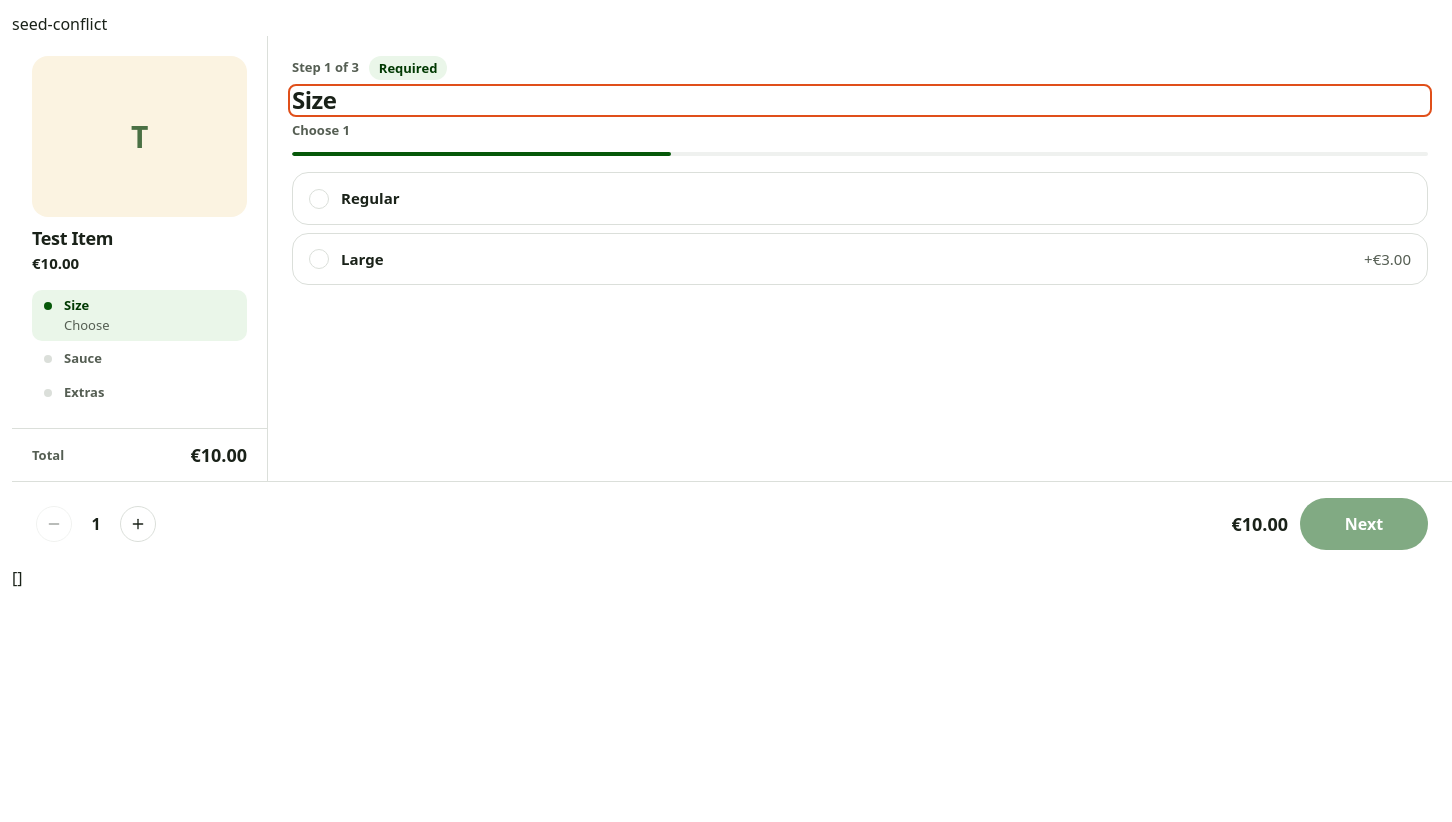
summary jump-back › edits an earlier step then returns to the furthest step
The width and height of the screenshot is (1452, 822).
Click the radio button labelled "Regular".
click(370, 198)  # box [292,172,1428,225]
Wait 400 ms
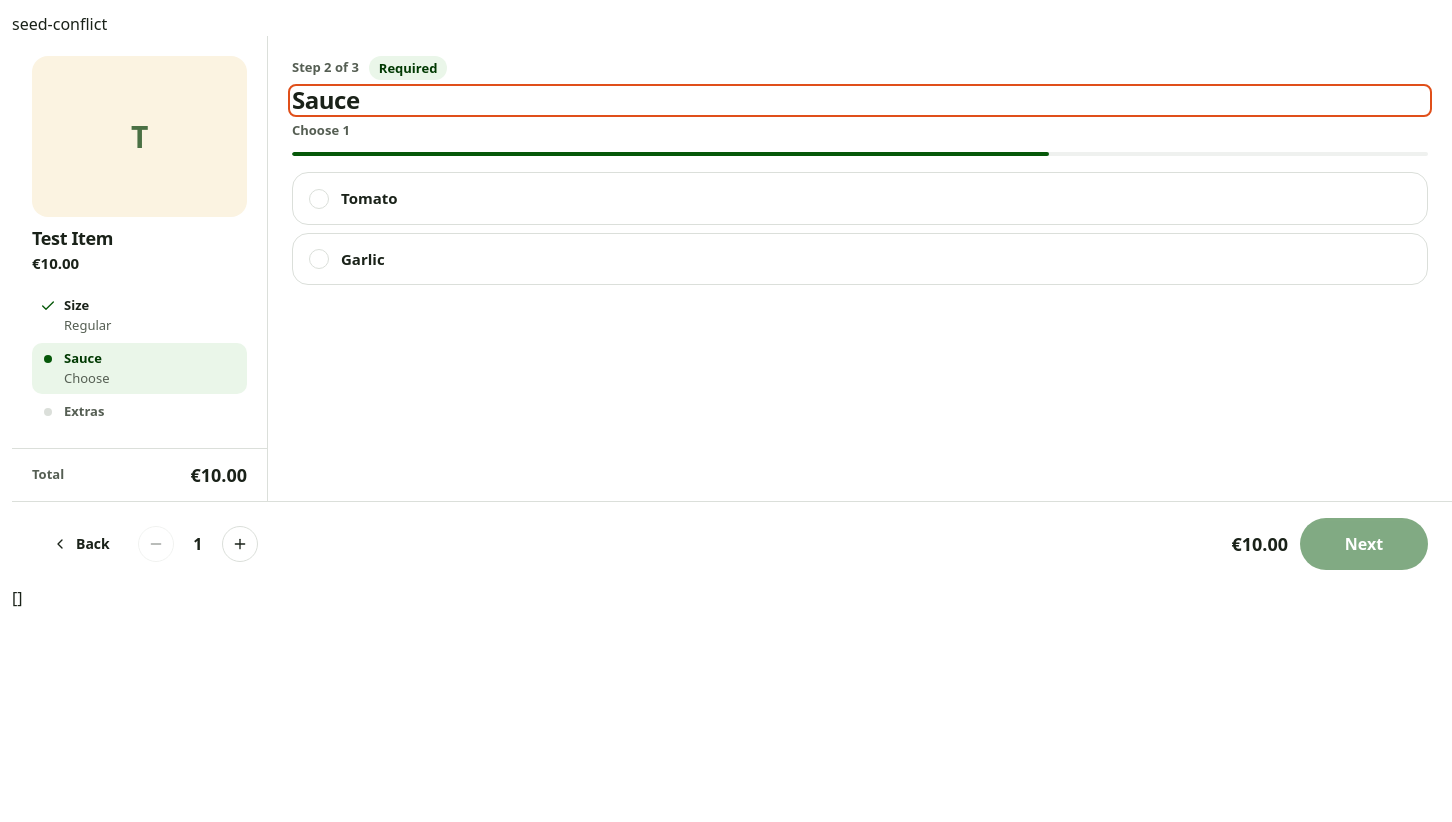
Click the radio button labelled "Tomato".
click(369, 198)  # box [292,172,1428,225]
Wait 400 ms
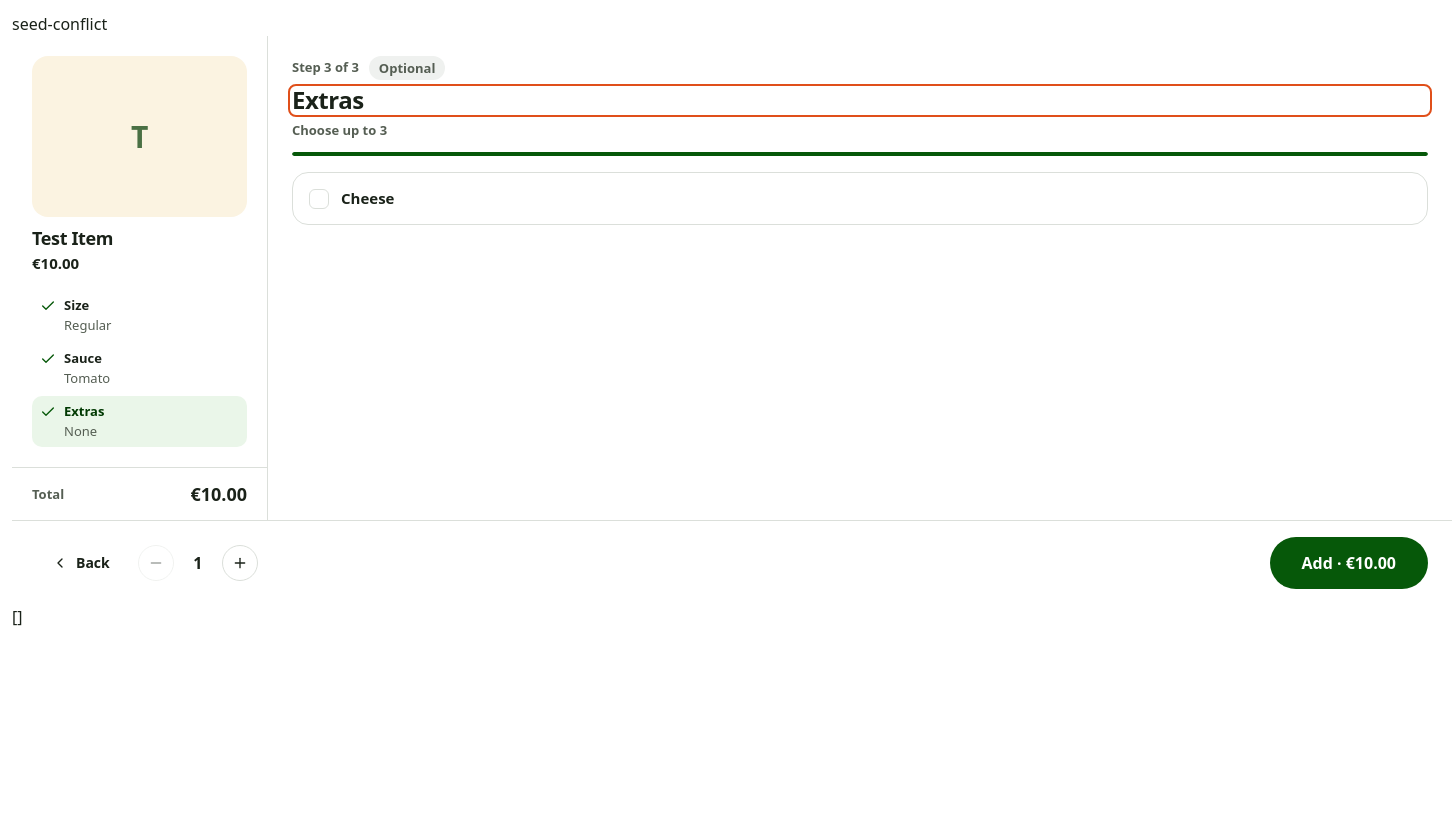
Expected: the heading "Extras" is shown, [292,83,364,116]
Click the button with aria-label "edit size".
click(140, 316)  # box [32,290,247,342]
Wait 400 ms
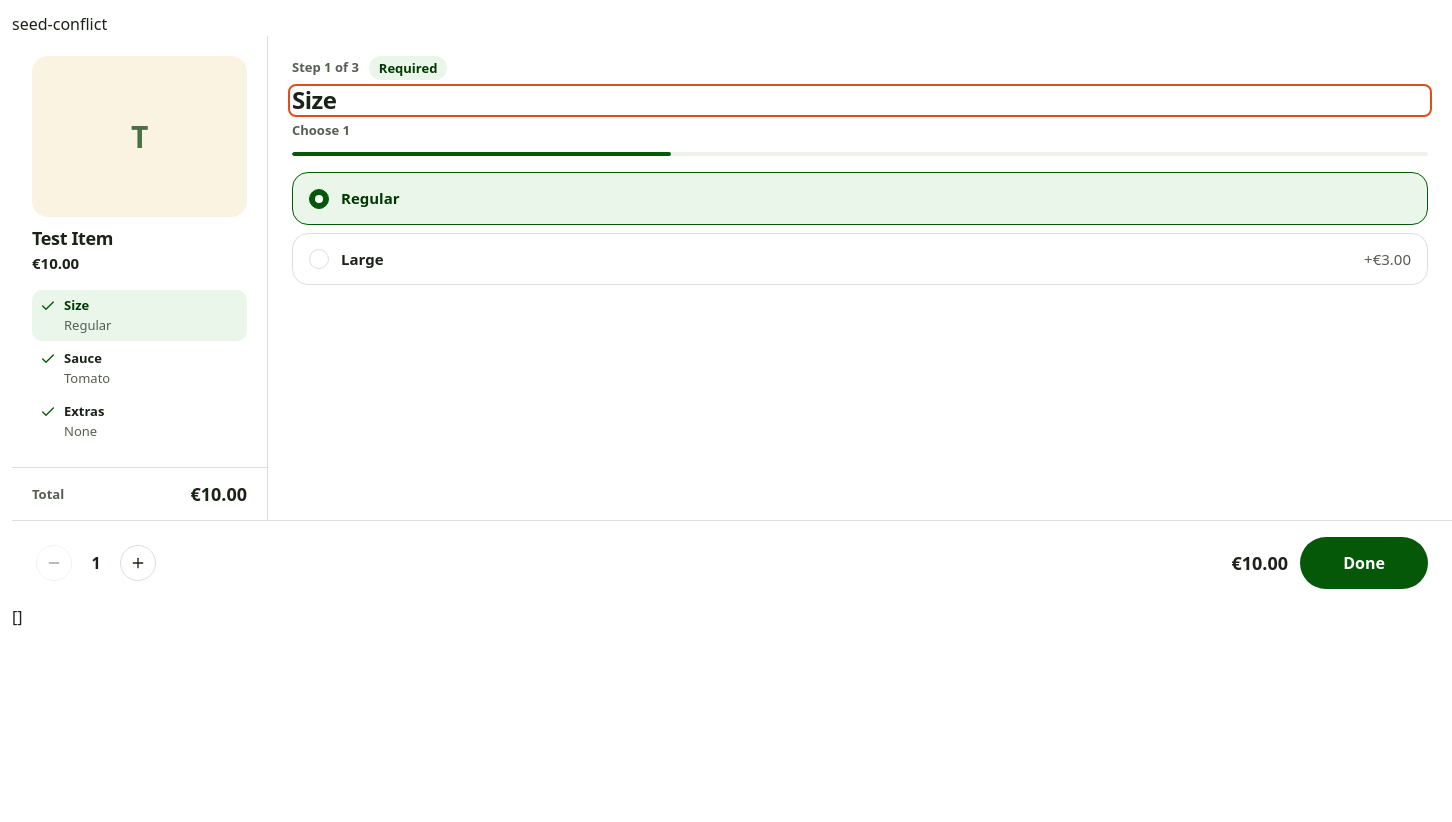
Expected: the heading "Size" is shown, [292,83,336,116]
Click the radio button labelled "Large +€3.00".
click(362, 259)  # box [292,233,1428,286]
Wait 400 ms
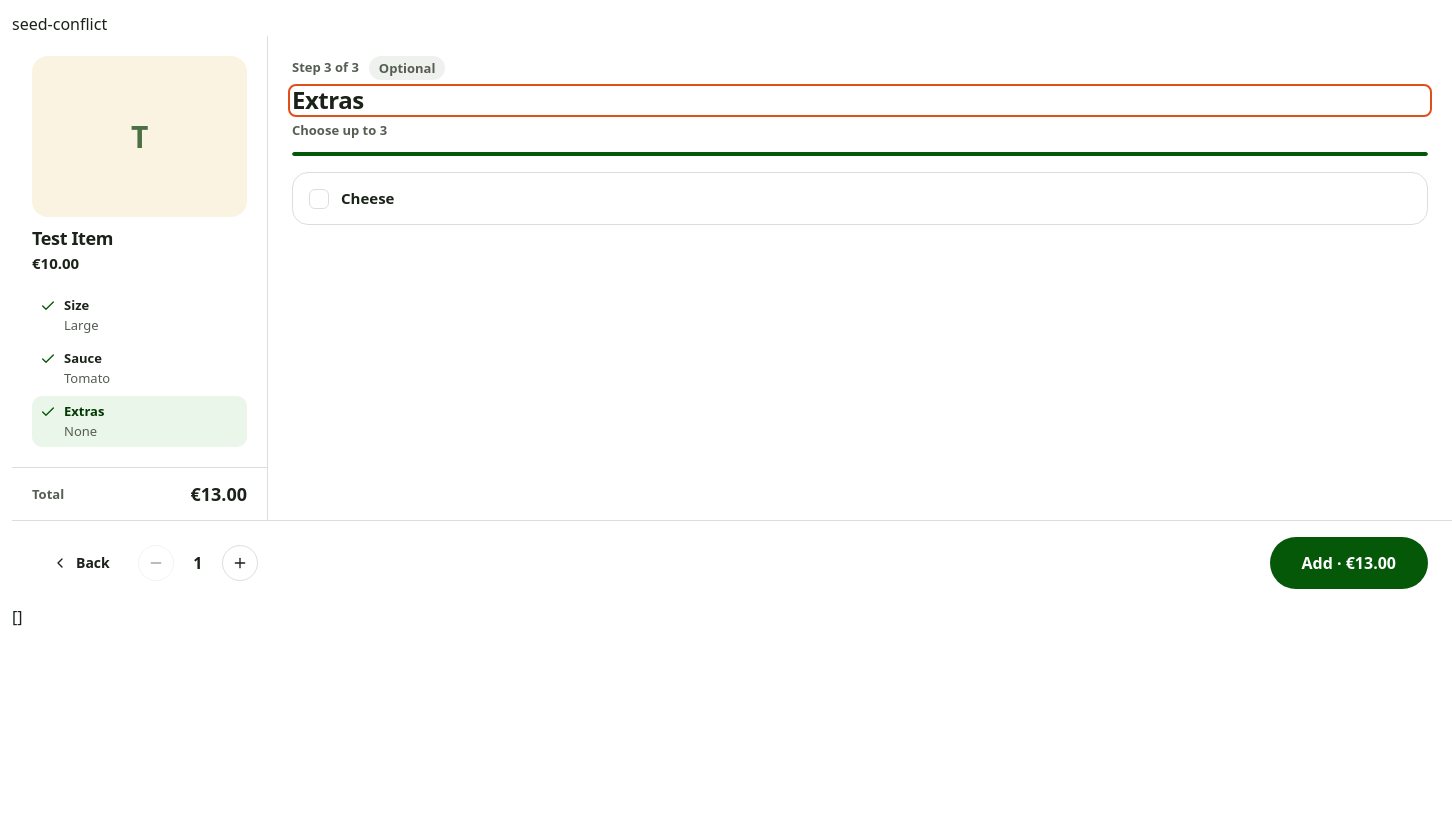
Expected: the heading "Extras" is shown, [292,83,364,116]
